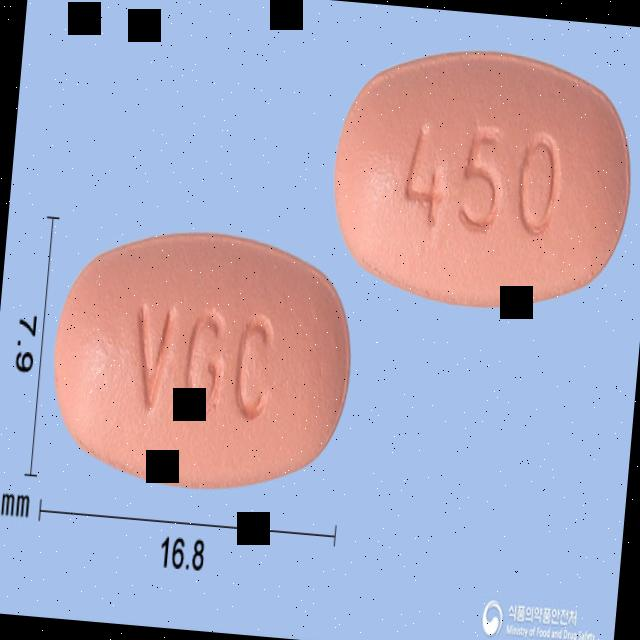Valcyte Tab: (41, 217, 362, 502), (323, 33, 640, 320)
